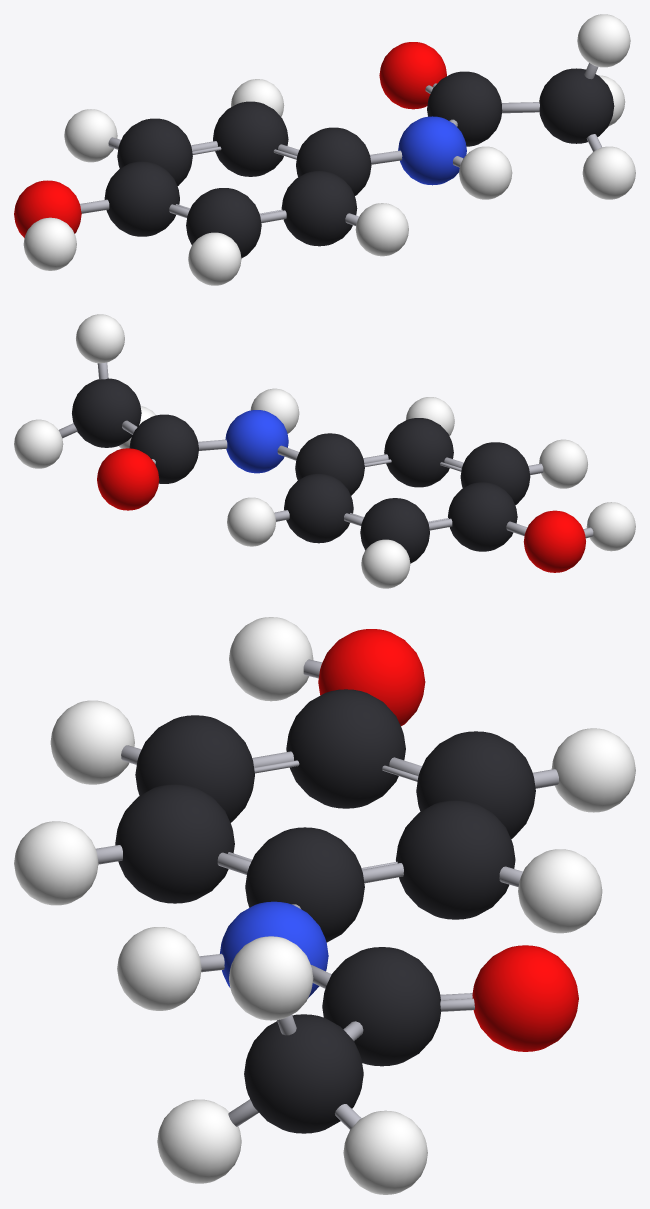
The model's file is paracetamol.glb.
3 views of the same model, one above another, from view 1: azimuth 30°, elevation 25°; view 2: azimuth 150°, elevation 25°; view 3: azimuth 270°, elevation 25° (orthographic). The views are drawn at different scales.
Parts seen in each view (by area): view 1: C7, C5, C0, C10, C1, N3, C6, O2, C4, C9, O8, H16 (+9 smaller); view 2: C7, C10, C5, C0, C1, N3, O2, O8, C9, C6, C4, H19 (+7 smaller); view 3: C10, C5, C7, C0, C1, O2, C4, C9, C6, O8, H19, H13 (+8 smaller).
Boxes of the visible parts, x1=… form: C7: x1=104, y1=161, x2=179, y2=236; C5: x1=281, y1=171, x2=357, y2=246; C0: x1=539, y1=68, x2=614, y2=143; C10: x1=213, y1=101, x2=288, y2=176; C1: x1=427, y1=71, x2=502, y2=146; N3: x1=398, y1=116, x2=466, y2=185; C6: x1=186, y1=188, x2=261, y2=258; O2: x1=379, y1=42, x2=446, y2=109; C4: x1=296, y1=127, x2=371, y2=195; C9: x1=117, y1=118, x2=192, y2=185; O8: x1=14, y1=180, x2=81, y2=237; H16: x1=188, y1=232, x2=241, y2=285; C7: x1=448, y1=482, x2=517, y2=551; C10: x1=284, y1=473, x2=353, y2=543; C5: x1=384, y1=418, x2=453, y2=487; C0: x1=72, y1=378, x2=141, y2=447; C1: x1=129, y1=414, x2=198, y2=483; N3: x1=225, y1=410, x2=288, y2=473; O2: x1=97, y1=448, x2=159, y2=510; O8: x1=523, y1=510, x2=585, y2=572; C9: x1=360, y1=498, x2=429, y2=563; C6: x1=460, y1=442, x2=530, y2=504; C4: x1=295, y1=433, x2=364, y2=495; H19: x1=227, y1=497, x2=275, y2=546; C10: x1=396, y1=800, x2=515, y2=919; C5: x1=115, y1=784, x2=234, y2=903; C7: x1=286, y1=689, x2=405, y2=808; C0: x1=244, y1=1014, x2=363, y2=1133; C1: x1=322, y1=947, x2=440, y2=1066; O2: x1=472, y1=945, x2=578, y2=1051; C4: x1=245, y1=827, x2=364, y2=942; C9: x1=416, y1=731, x2=535, y2=838; C6: x1=135, y1=715, x2=254, y2=822; O8: x1=318, y1=629, x2=425, y2=726; H19: x1=518, y1=849, x2=602, y2=933; H13: x1=343, y1=1110, x2=427, y2=1194.
Size of the model in its own units: 9.82 by 2.38 by 5.3.
